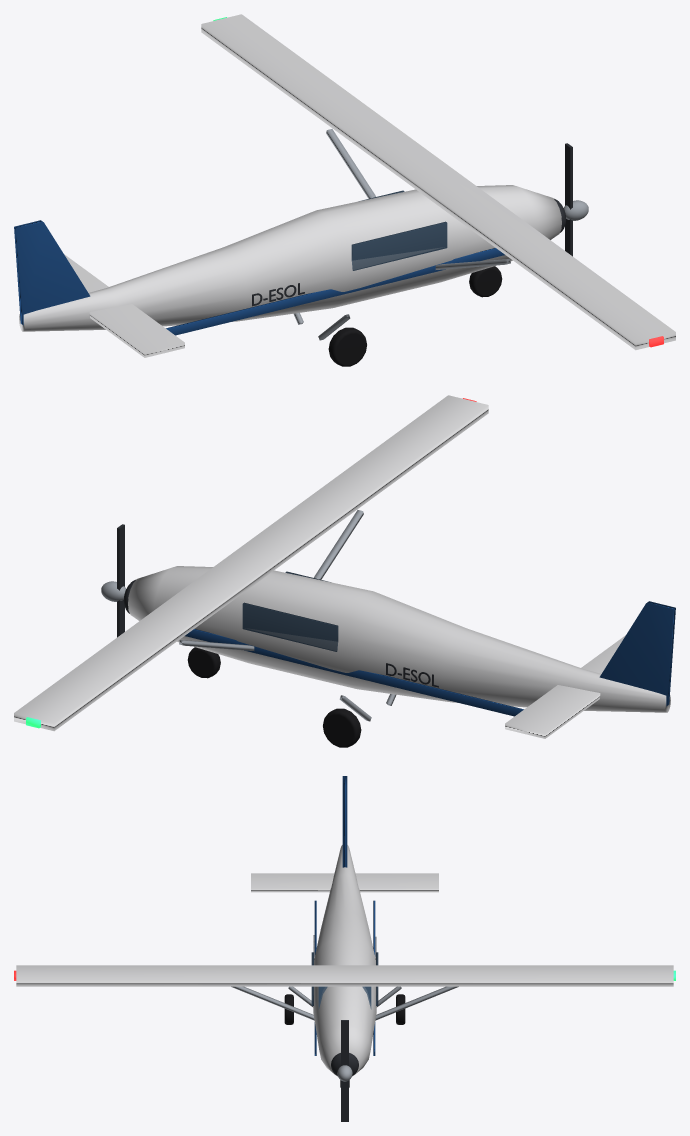
3 views of the same model, one above another, from view 1: azimuth 30°, elevation 25°; view 2: azimuth 150°, elevation 25°; view 3: azimuth 270°, elevation 25° (orthographic). The views are drawn at different scales.
Visible parts, largest first — view 1: body, fixedgear, prop; view 2: body, fixedgear, prop; view 3: body, prop, fixedgear.
Part boxes in pixels (x1=…): body: x1=14, y1=14, x2=675, y2=357; fixedgear: x1=293, y1=266, x2=502, y2=366; prop: x1=564, y1=143, x2=588, y2=256; body: x1=14, y1=395, x2=675, y2=738; fixedgear: x1=187, y1=647, x2=396, y2=747; prop: x1=101, y1=524, x2=125, y2=637; body: x1=14, y1=776, x2=675, y2=1076; prop: x1=337, y1=1020, x2=352, y2=1121; fixedgear: x1=284, y1=986, x2=405, y2=1087.
Bounding box in the file's own units: 85.22 × 26.5 × 113.
